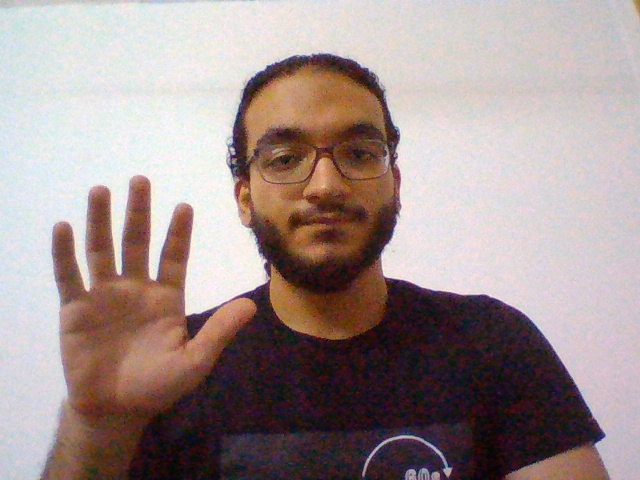Hello: (26, 155, 267, 421)
